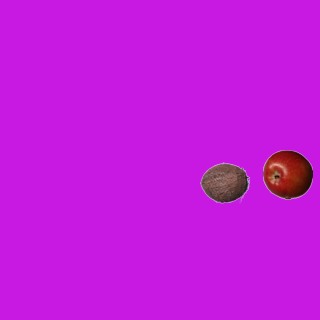Apple Braeburn: (262, 149, 312, 199)
Cocos: (199, 157, 249, 207)
